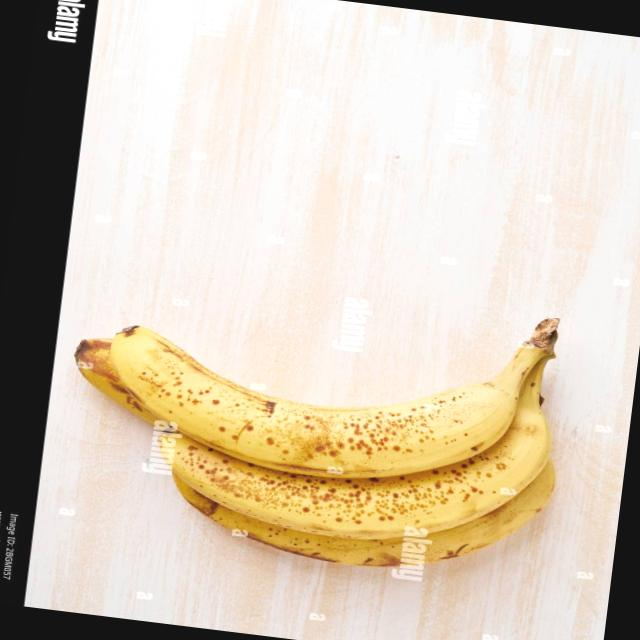banana: (46, 257, 582, 595)
